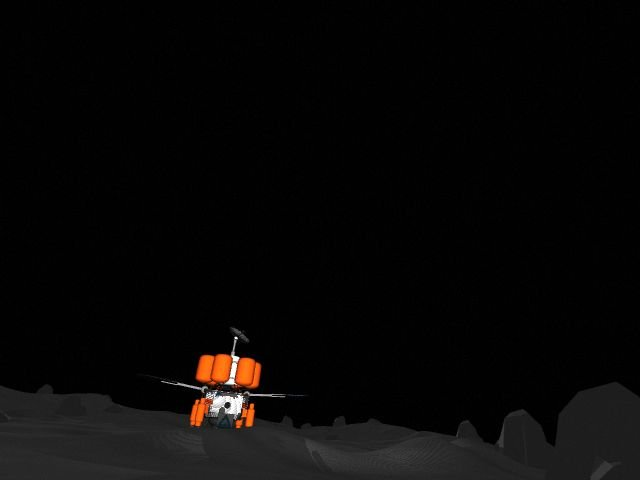homebase: (141, 325, 312, 439)
